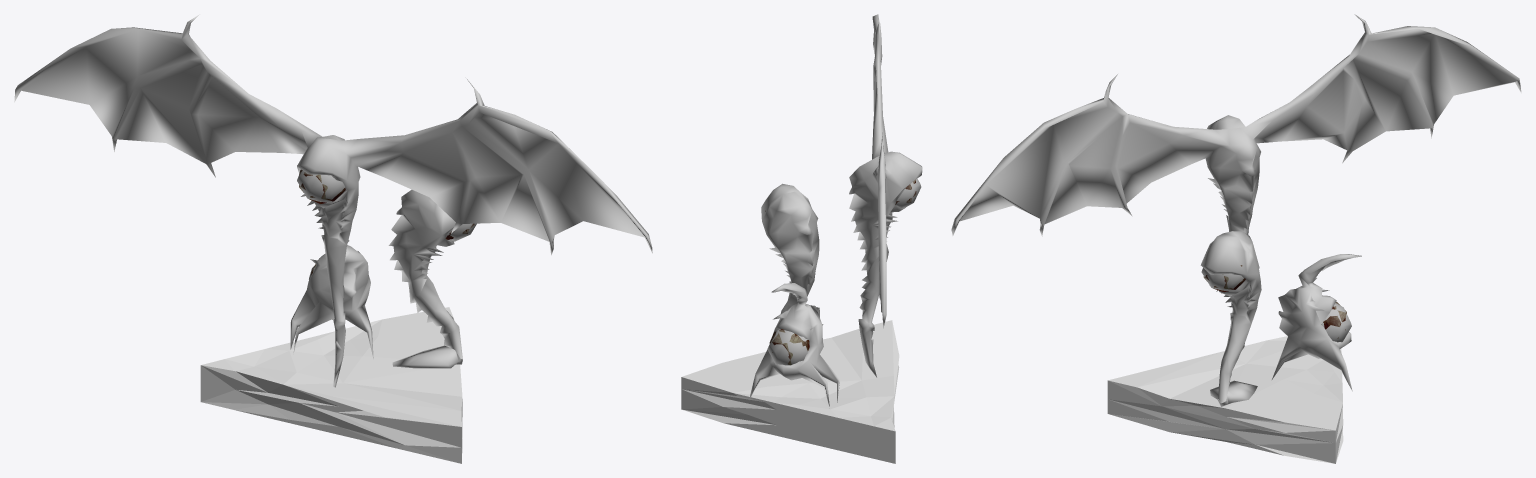
Rendered from 3Statues.fbx.
3 renders of one model, left to right at view 1: azimuth 30°, elevation 25°; view 2: azimuth 150°, elevation 25°; view 3: azimuth 270°, elevation 25°, orthographic. The views are drawn at different scales.
Parts seen in each view (by area): view 1: Eye_ball, Base, Eye_ball.002, Eye_ball.001; view 2: Base, Eye_ball, Eye_ball.001, Eye_ball.002; view 3: Eye_ball, Base, Eye_ball.002, Eye_ball.001.
Part boxes in pixels (bbox=[...]): Eye_ball: bbox=[14, 14, 652, 387]; Base: bbox=[200, 307, 462, 463]; Eye_ball.002: bbox=[388, 189, 476, 368]; Eye_ball.001: bbox=[290, 240, 373, 358]; Base: bbox=[681, 320, 899, 463]; Eye_ball: bbox=[849, 14, 922, 377]; Eye_ball.001: bbox=[749, 283, 839, 406]; Eye_ball.002: bbox=[761, 183, 819, 313]; Eye_ball: bbox=[951, 14, 1521, 351]; Base: bbox=[1107, 336, 1343, 463]; Eye_ball.002: bbox=[1200, 231, 1261, 406]; Eye_ball.001: bbox=[1272, 254, 1361, 391].
Bounding box in the file's own units: 853 × 938 × 1395.
